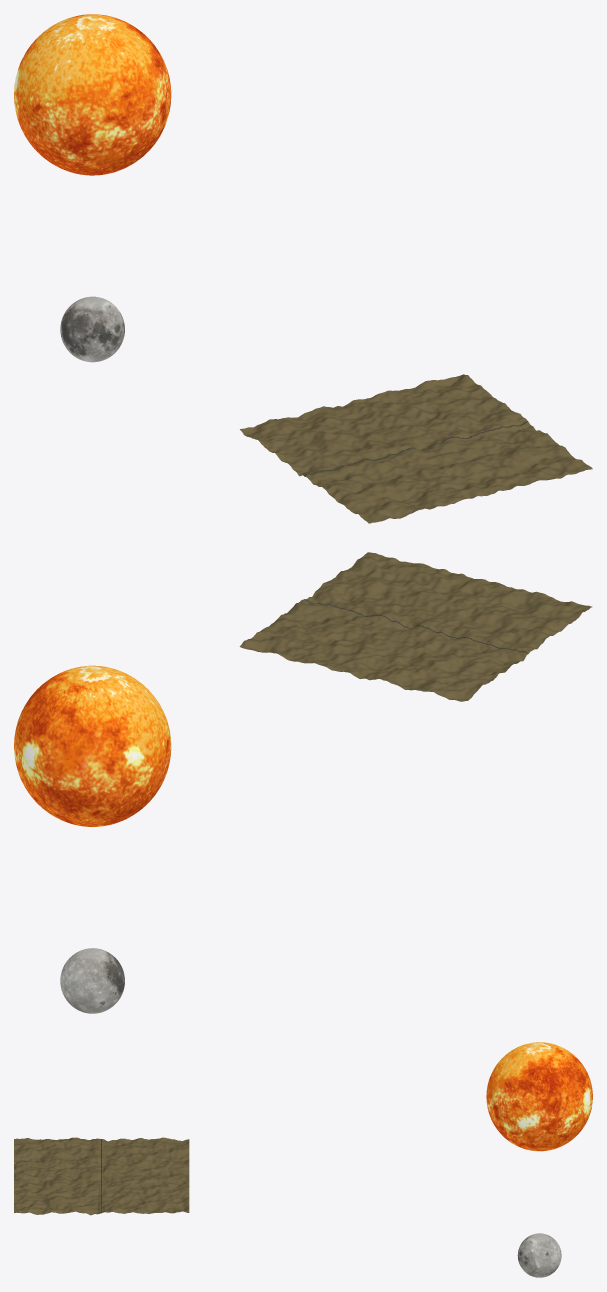
Rendered from windowsxpmap.glb.
The picture shows the model from 3 angles, top to bottom: view 1: azimuth 30°, elevation 25°; view 2: azimuth 150°, elevation 25°; view 3: azimuth 270°, elevation 25°; orthographic projection. The views are drawn at different scales.
Parts seen in each view (by area): view 1: Terrain_RigidBody, Sun, Moon; view 2: Terrain_RigidBody, Sun, Moon; view 3: Terrain_RigidBody, Sun, Moon.
Part boxes in pixels (x1=…): Terrain_RigidBody: x1=240, y1=374, x2=592, y2=523; Sun: x1=14, y1=14, x2=171, y2=175; Moon: x1=60, y1=296, x2=124, y2=362; Terrain_RigidBody: x1=239, y1=552, x2=592, y2=701; Sun: x1=14, y1=665, x2=171, y2=826; Moon: x1=60, y1=948, x2=124, y2=1013; Terrain_RigidBody: x1=14, y1=1137, x2=189, y2=1215; Sun: x1=486, y1=1042, x2=592, y2=1151; Moon: x1=517, y1=1233, x2=561, y2=1277.
Bounding box in the file's own units: 1000 × 1443 × 3304.
5 materials, 4 textured.
